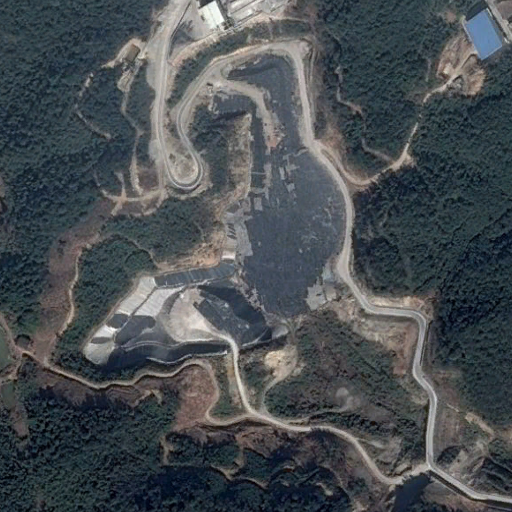lf: (86, 37, 353, 373)
